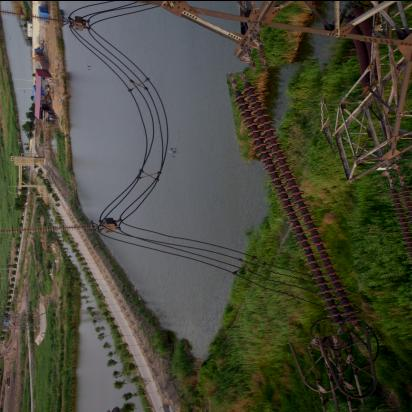insulator: (239, 61, 356, 343)
